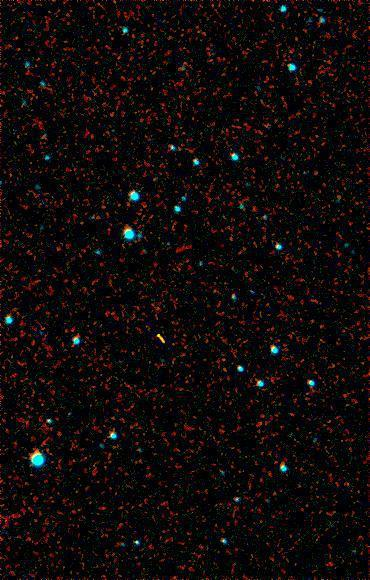star: (145, 325, 175, 355)
